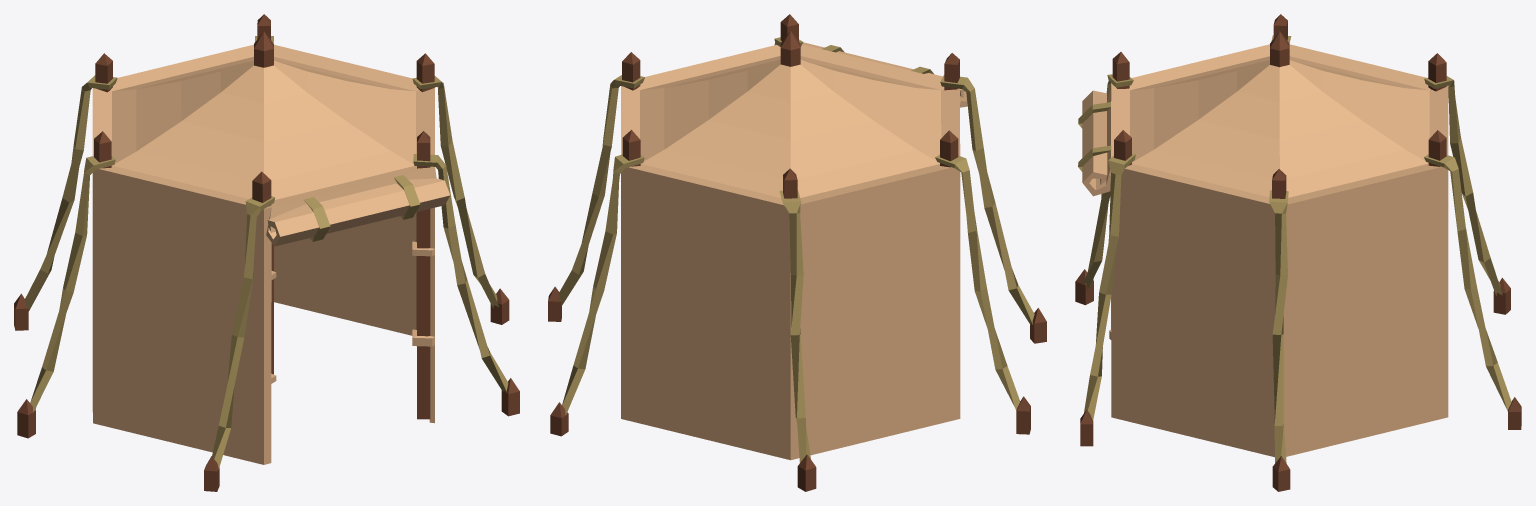
The model's file is tent_hexagon.fbx.
3 views of the same model, side by side, from view 1: azimuth 30°, elevation 25°; view 2: azimuth 150°, elevation 25°; view 3: azimuth 270°, elevation 25° (orthographic).
Parts seen in each view (by area): view 1: tent_hexagon; view 2: tent_hexagon; view 3: tent_hexagon.
Part boxes in pixels (bbox=[...]): tent_hexagon: bbox=[14, 14, 519, 491]; tent_hexagon: bbox=[548, 14, 1046, 491]; tent_hexagon: bbox=[1075, 14, 1521, 491].
Bounding box in the file's own units: 233 × 159 × 187.
